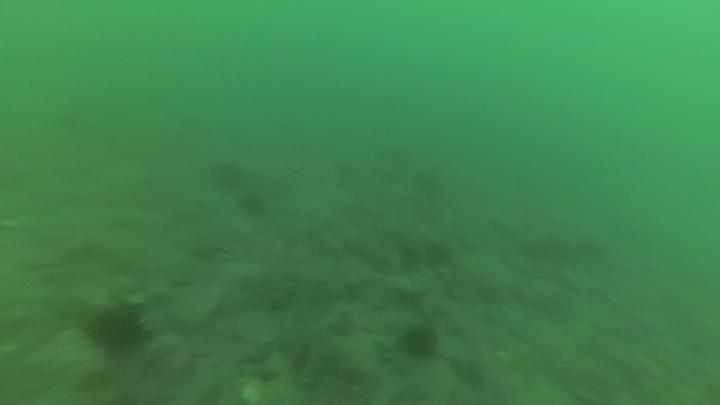echinus: (86, 303, 156, 359), (401, 322, 444, 360), (209, 160, 247, 194), (420, 239, 456, 271), (234, 191, 272, 216)
